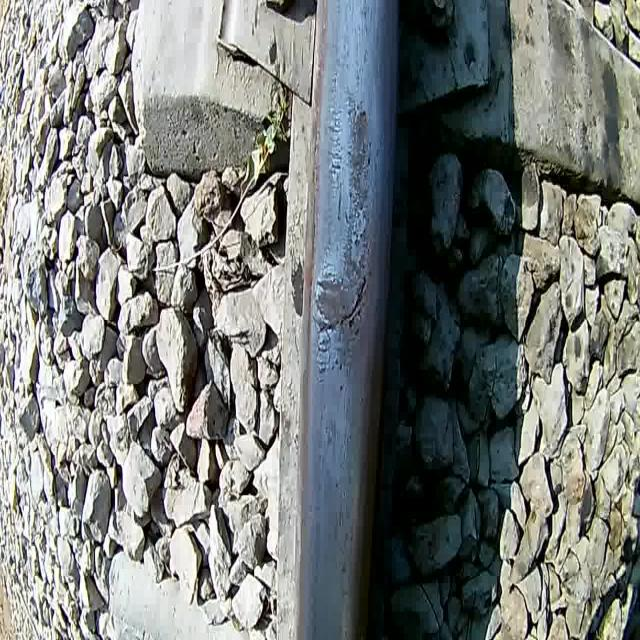Squats: (313, 270, 358, 331), (344, 105, 372, 175)
